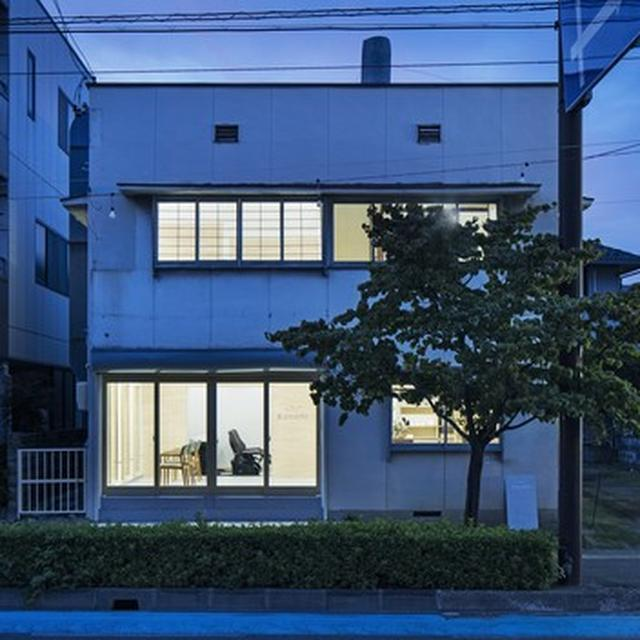building: (88, 77, 559, 533)
